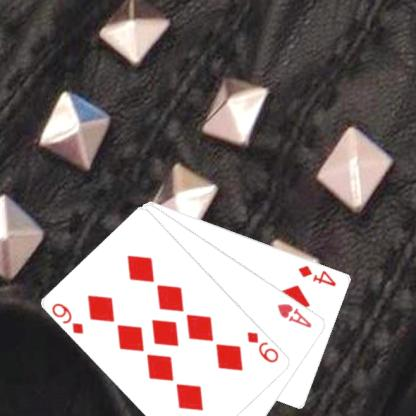4D: (295, 262, 338, 288)
9D: (50, 300, 86, 336), (244, 329, 281, 364)
AH: (274, 300, 314, 330)
